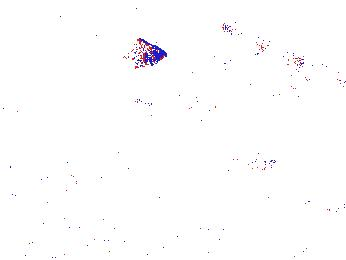X-ray fish: (118, 38, 168, 72)
red belly glassfish: (215, 148, 278, 177), (301, 195, 346, 219)
redtail glassfish: (132, 96, 226, 128), (210, 51, 309, 79), (222, 18, 271, 57)
